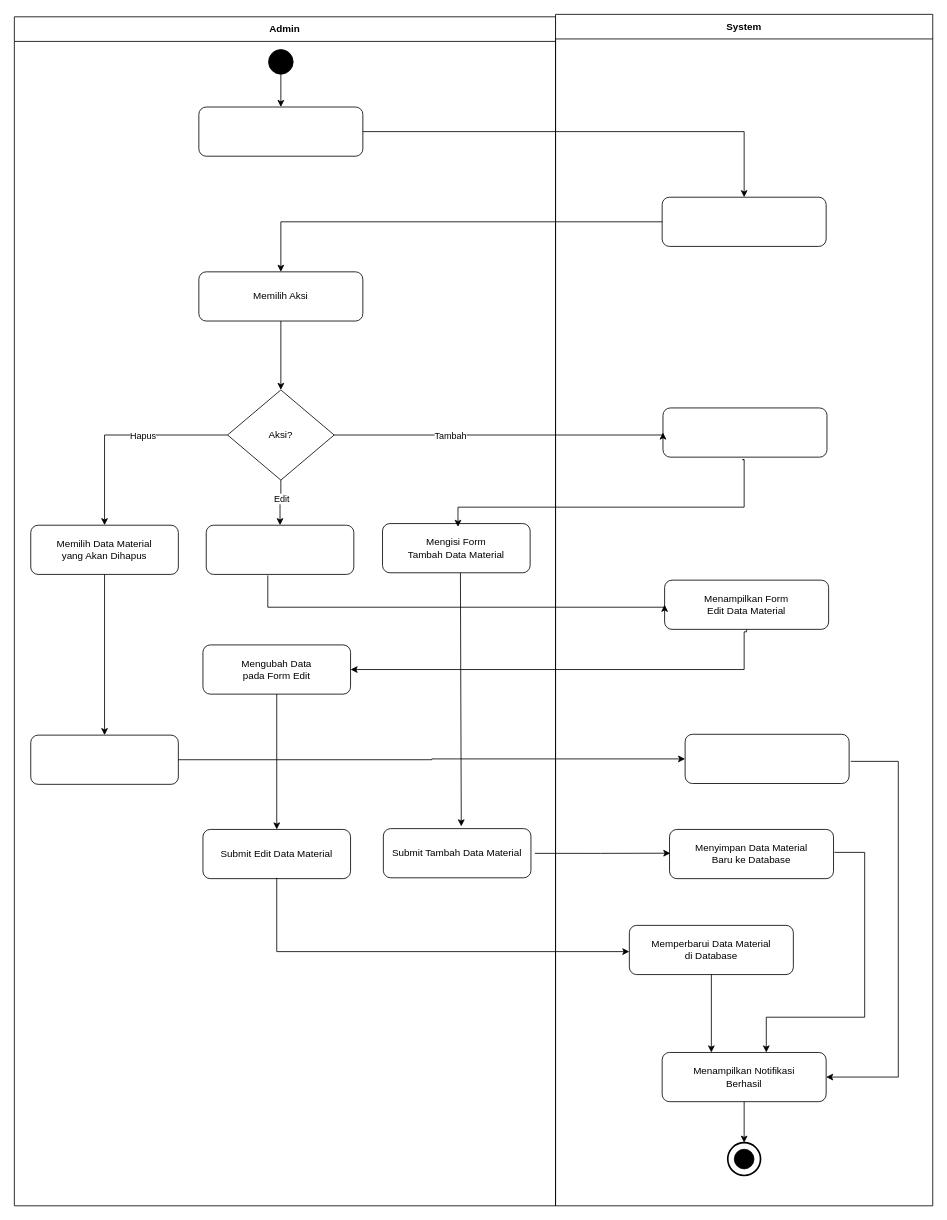
This 947x1220 diagram has some shape labels left out. The centre of each missing label's shape, as x and y in pixels:
"Memilih Data Material yang Akan Diedit" goes at point 279,549.
"Menampilkan Daftar Data Material" goes at point 743,221.
"Menampilkan Form Tambah Data Material" goes at point 744,432.
"Mengakses Halaman Material Management" goes at point 280,131.
"Menghapus Data Material dari Database" goes at point 766,758.
"Mengonfirmasi Penghapusan Data" goes at point 104,759.
